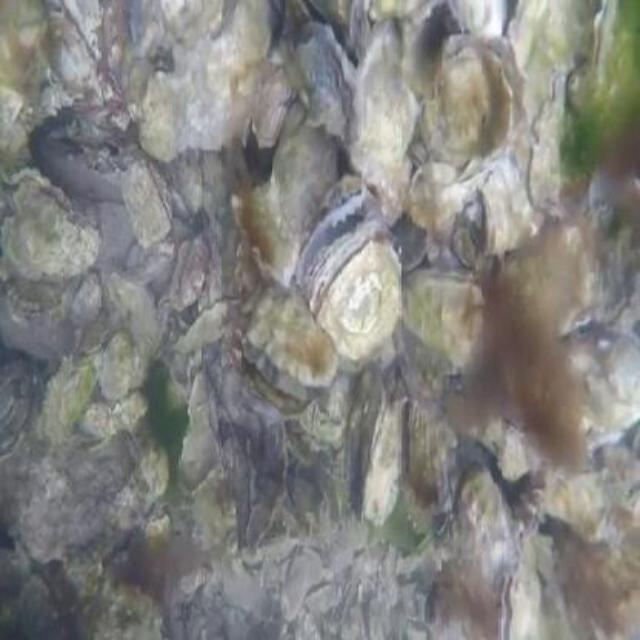Oyster-Closed: (141, 0, 270, 157), (351, 23, 417, 222), (559, 321, 640, 446), (531, 76, 591, 221), (402, 269, 495, 358), (582, 0, 640, 140), (235, 176, 301, 284), (274, 119, 336, 227), (408, 407, 458, 515), (45, 0, 101, 93), (253, 49, 295, 150), (499, 544, 541, 640), (460, 461, 511, 540), (124, 159, 169, 243), (445, 0, 509, 38), (100, 332, 131, 399), (180, 238, 208, 305), (130, 242, 173, 280), (73, 317, 109, 361), (74, 276, 99, 327)
Oyster-Open: (296, 187, 398, 356), (422, 37, 525, 160), (242, 285, 340, 414), (0, 170, 104, 280), (296, 23, 364, 144), (372, 0, 442, 28)
